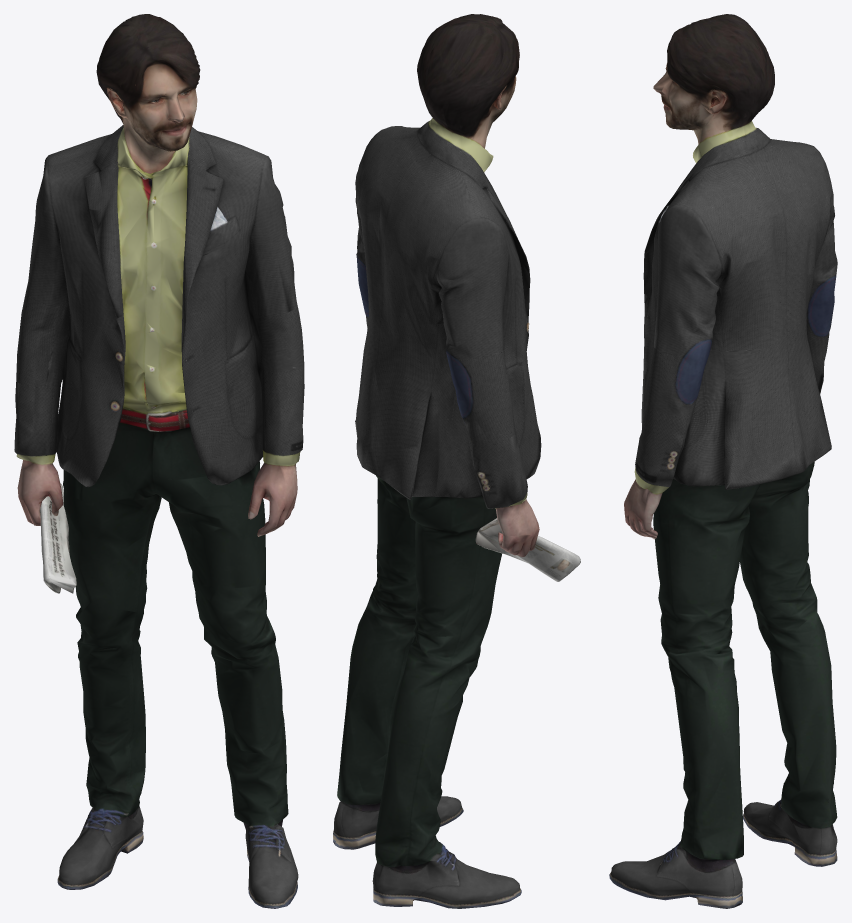
3 renders of one model, left to right at view 1: azimuth 30°, elevation 25°; view 2: azimuth 150°, elevation 25°; view 3: azimuth 270°, elevation 25°, orthographic. The views are drawn at different scales.
Visible parts, largest first — view 1: CMan0323_HD2_O01P01_S_Var4 (×2); view 2: CMan0323_HD2_O01P01_S_Var4 (×2); view 3: CMan0323_HD2_O01P01_S_Var4.
Part boxes in pixels (x1,y1,x2,y2): CMan0323_HD2_O01P01_S_Var4 (×2): (14, 14, 304, 908); CMan0323_HD2_O01P01_S_Var4 (×2): (333, 14, 580, 908); CMan0323_HD2_O01P01_S_Var4: (609, 14, 837, 908).
Size of the model in its own units: 21.38 by 18.22 by 72.8.
Materials: 1 (1 with a texture image).
